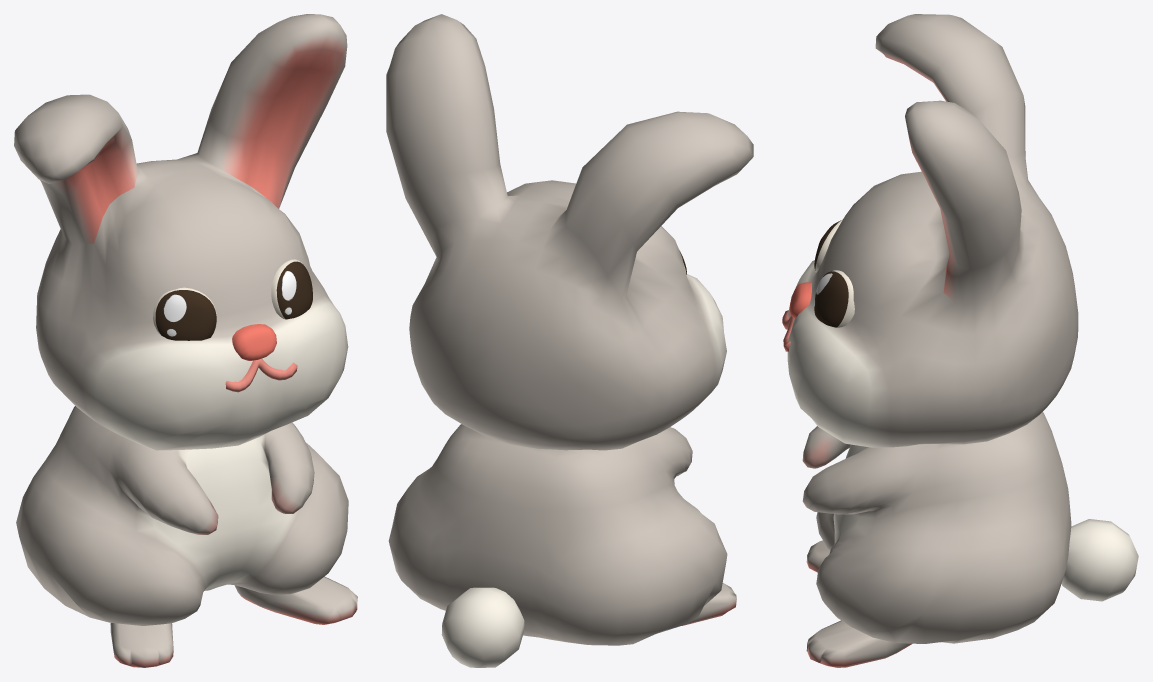
Rendered from rabbit.fbx.
3 views of the same model, side by side, from view 1: azimuth 30°, elevation 25°; view 2: azimuth 150°, elevation 25°; view 3: azimuth 270°, elevation 25° (orthographic).
Visible parts, largest first — view 1: rabbit, rabbit_eyes; view 2: rabbit; view 3: rabbit, rabbit_eyes.
Part boxes in pixels (left/top/right/bottom): rabbit: left=14, top=14, right=357, bottom=667; rabbit_eyes: left=153, top=259, right=312, bottom=340; rabbit: left=386, top=14, right=753, bottom=667; rabbit: left=782, top=14, right=1138, bottom=667; rabbit_eyes: left=814, top=219, right=854, bottom=327.
Size of the model in its own units: 1.09 by 1.77 by 1.
